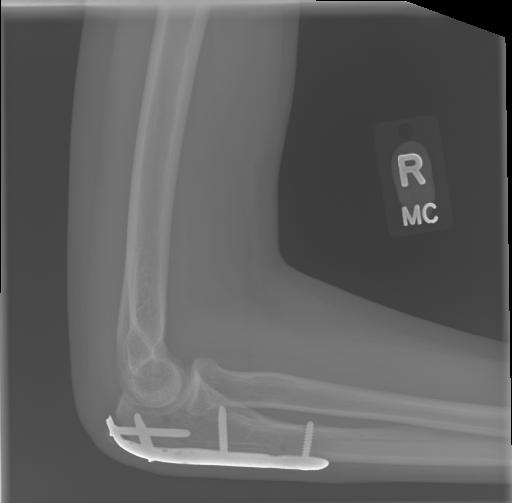elbow positive: (142, 407, 200, 459)
